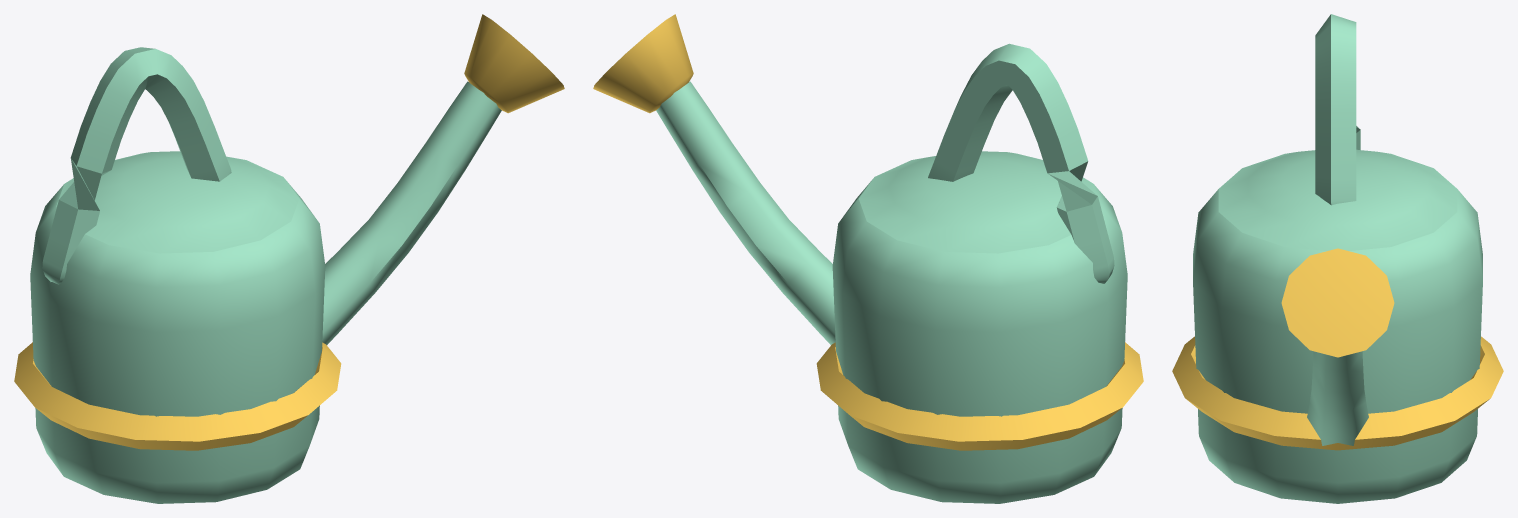
Rendered from item_watering_can.glb.
3 renders of one model, left to right at view 1: azimuth 30°, elevation 25°; view 2: azimuth 150°, elevation 25°; view 3: azimuth 270°, elevation 25°, orthographic.
Parts seen in each view (by area): view 1: item_watering_can; view 2: item_watering_can; view 3: item_watering_can.
Part boxes in pixels (x1=…): item_watering_can: x1=14, y1=14, x2=564, y2=503; item_watering_can: x1=593, y1=14, x2=1143, y2=503; item_watering_can: x1=1172, y1=14, x2=1503, y2=503.
Bounding box in the file's own units: 0.3203 × 0.2458 × 0.176.
